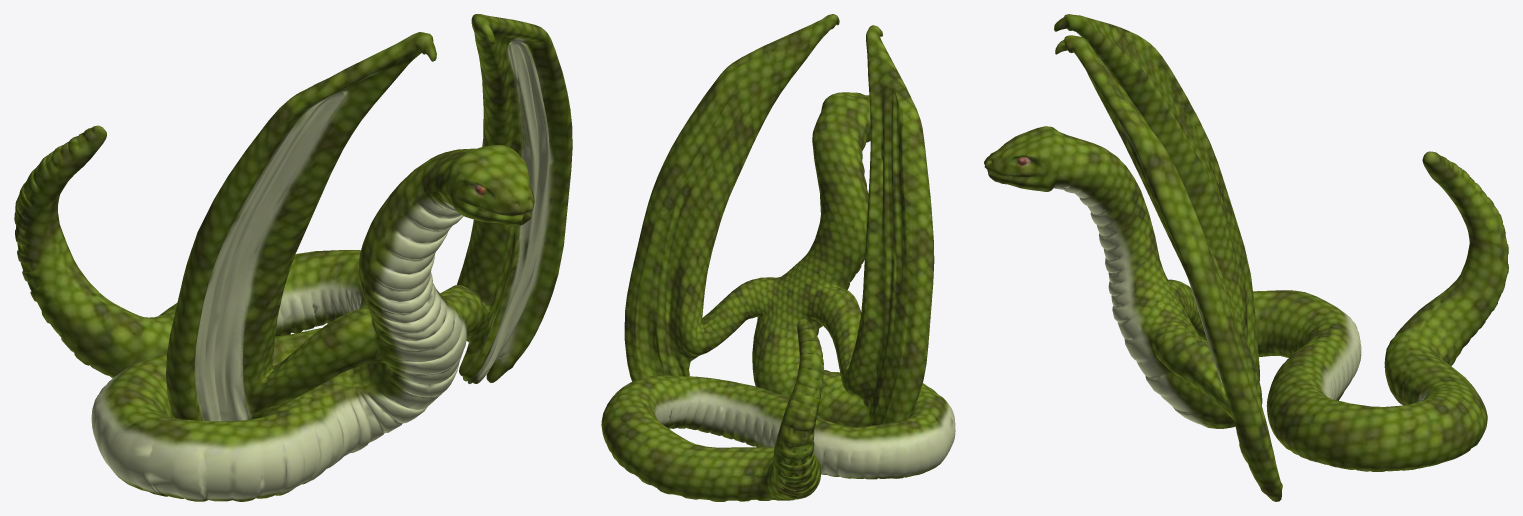
The model's file is MZ4250 - Flying Snake.glb.
The picture shows the model from 3 angles, left to right: view 1: azimuth 30°, elevation 25°; view 2: azimuth 150°, elevation 25°; view 3: azimuth 270°, elevation 25°; orthographic projection. The views are drawn at different scales.
Parts seen in each view (by area): view 1: default; view 2: default; view 3: default.
Part boxes in pixels (bbox=[...]): default: bbox=[14, 14, 572, 501]; default: bbox=[601, 14, 955, 501]; default: bbox=[984, 14, 1508, 501].
Bounding box in the file's own units: 0.1714 × 0.1869 × 0.2084.
Materials: 1 (1 with a texture image).
